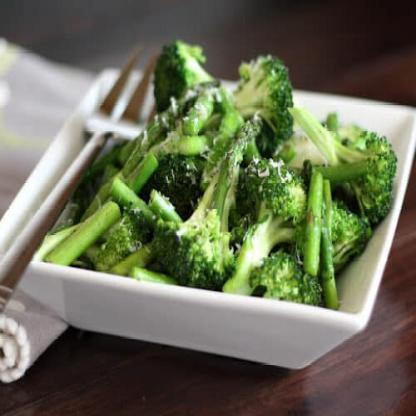broccoli: (43, 37, 398, 312)
